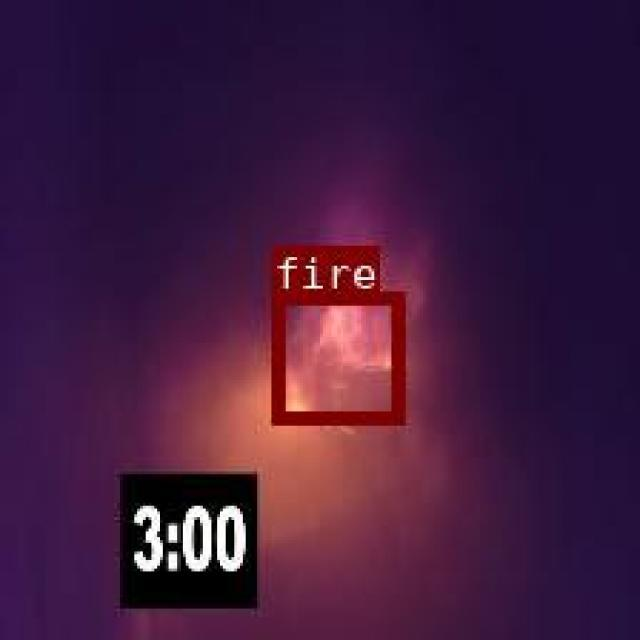fire: (270, 289, 401, 422)
